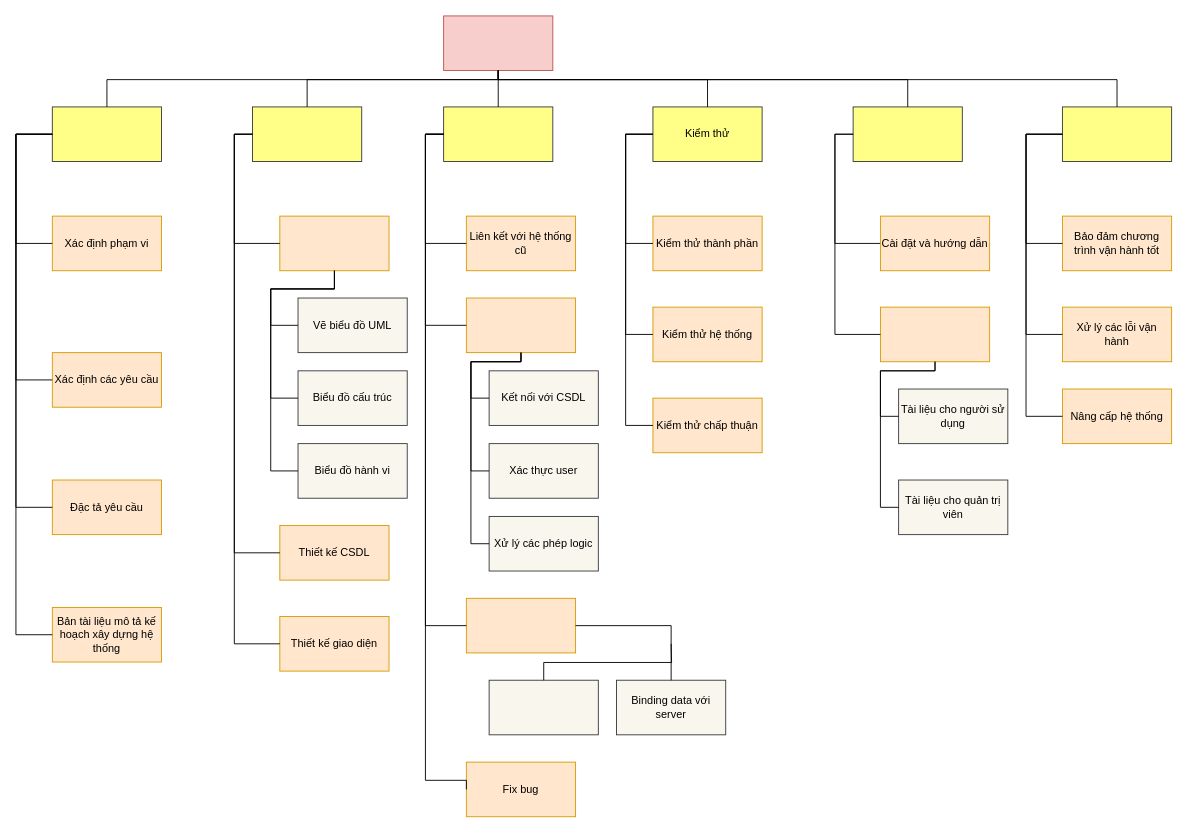
Image size: 1188x833. Some labels were removed from this diagram. The box of each missing label's shape, as (x1, y1, x2, y2) in pixels:
ABC WEAR: (443, 15, 553, 71)
Bàn giao: (852, 106, 962, 162)
Bảo trì: (1062, 106, 1172, 162)
Chuyển giao tài liệu: (880, 306, 990, 362)
Lập trình giao diện: (488, 679, 598, 735)
Lập trình phía client: (465, 597, 576, 653)
Lập trình phía server: (465, 297, 576, 353)
Lập trình phần mềm: (443, 106, 553, 162)
Mô hình hoá chức năng: (279, 215, 389, 271)
Thiết kế: (252, 106, 362, 162)
Xác định yêu cầu: (51, 106, 162, 162)
